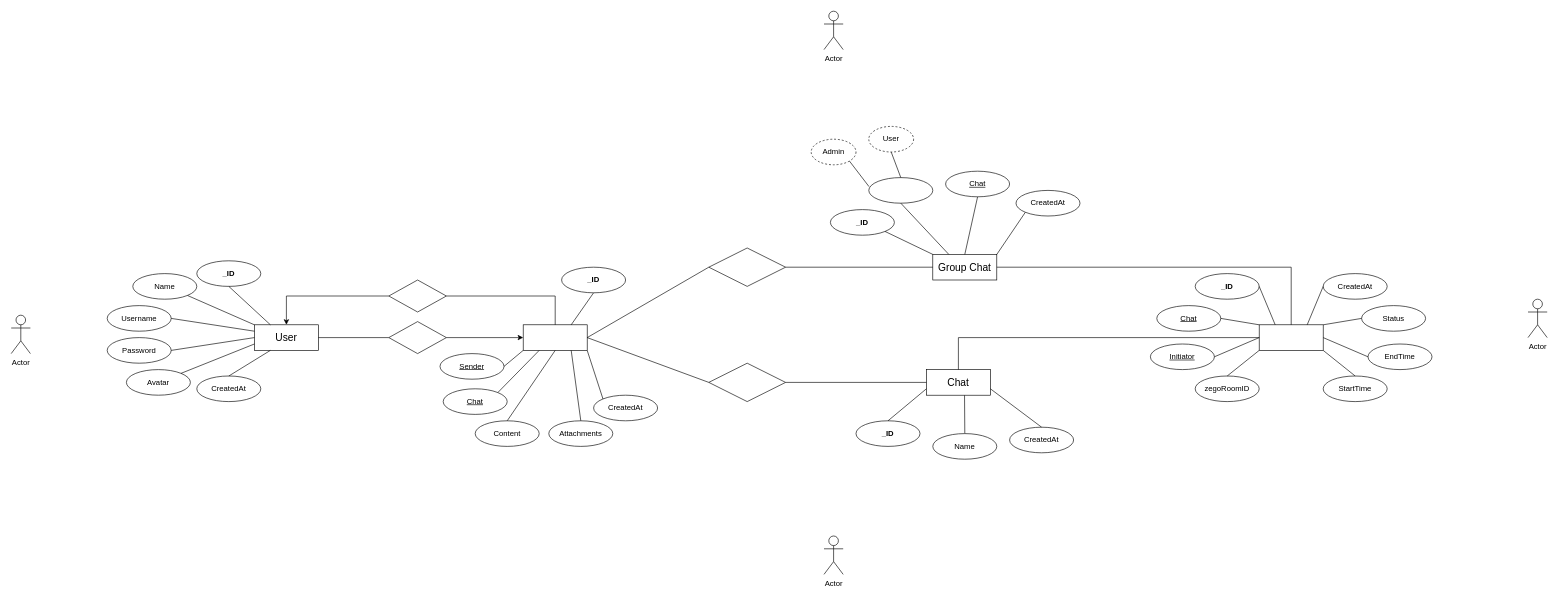
This 1558x599 diagram has some shape labels left out. Here are the shapes that lost their labels. From the top down, the centre of each, then its label:
At point 900,190: "Members".
At point 747,266: "False".
At point 417,295: "Receives".
At point 417,337: "Sends".
At point 555,337: "Message".
At point 1291,337: "VideoCall".
At point 747,382: "True".
